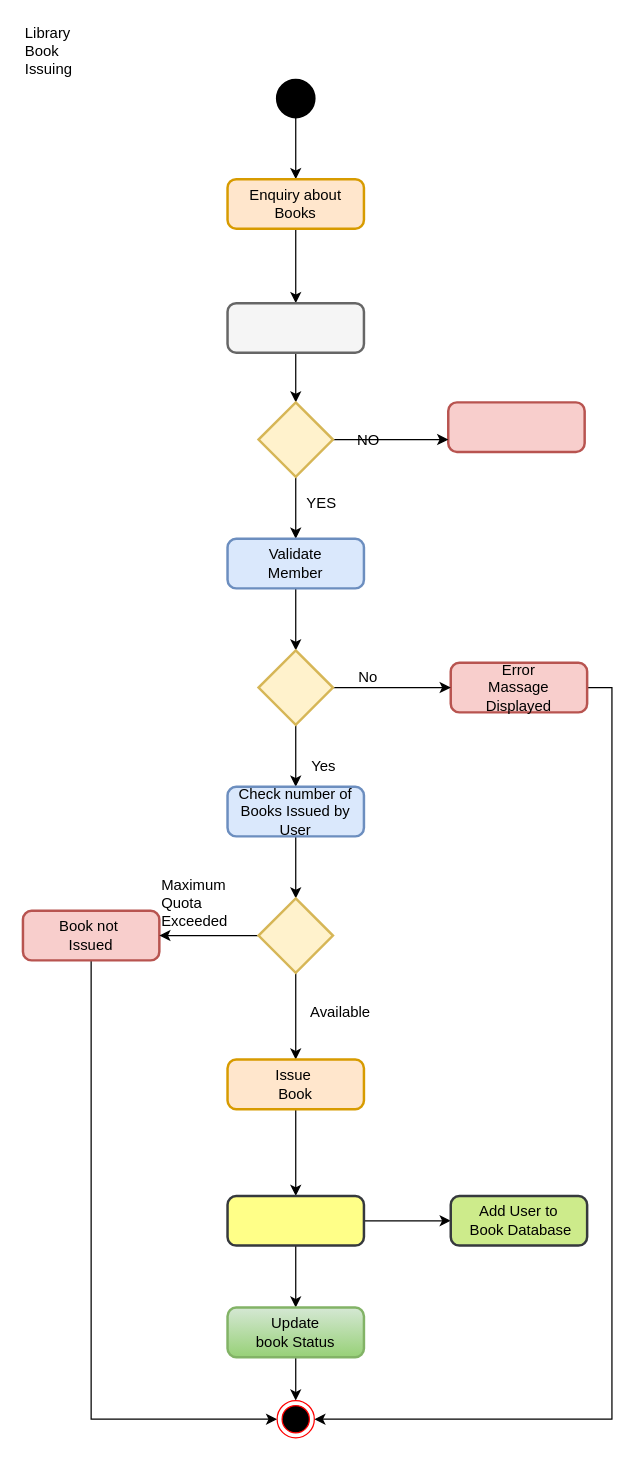
This 644x1459 diagram has some shape labels left out. The shapes that lost their labels are listed below. From the top down, each one's centre as x and y in pixels, then its label:
[295,327]: Check Availability of Book
[515,427]: Book not Available
[295,1220]: Issue Details
